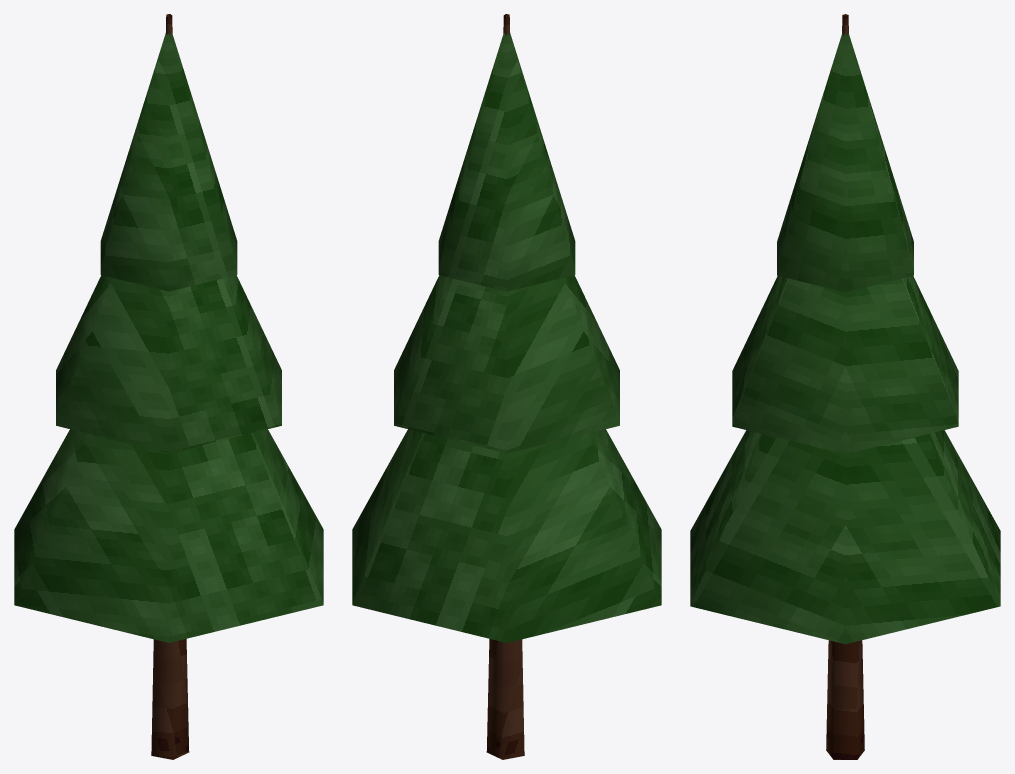
File: pine04-lod2.glb
3 renders of one model, left to right at view 1: azimuth 30°, elevation 25°; view 2: azimuth 150°, elevation 25°; view 3: azimuth 270°, elevation 25°, orthographic.
Visible parts, largest first — view 1: TZ_pine_Batch_01_LOD2, TZ_pine_Batch_00_LOD2; view 2: TZ_pine_Batch_01_LOD2, TZ_pine_Batch_00_LOD2; view 3: TZ_pine_Batch_01_LOD2, TZ_pine_Batch_00_LOD2.
Part boxes in pixels (x1=…): TZ_pine_Batch_01_LOD2: x1=14, y1=32, x2=323, y2=642; TZ_pine_Batch_00_LOD2: x1=151, y1=14, x2=189, y2=759; TZ_pine_Batch_01_LOD2: x1=352, y1=32, x2=661, y2=642; TZ_pine_Batch_00_LOD2: x1=486, y1=14, x2=524, y2=759; TZ_pine_Batch_01_LOD2: x1=690, y1=32, x2=1000, y2=644; TZ_pine_Batch_00_LOD2: x1=826, y1=14, x2=864, y2=759.
Size of the model in its own units: 3.48 by 7.9 by 3.01.
Materials: 2 (2 with a texture image).
